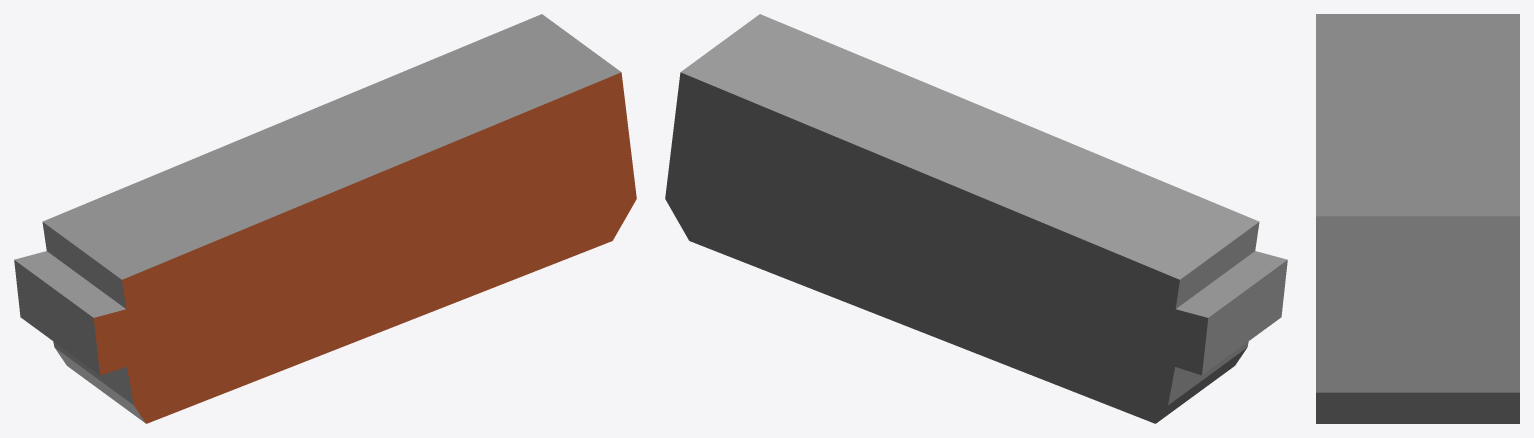
File: construction_4652_assumed_A_Casa_h6m.obj
The picture shows the model from 3 angles, left to right: view 1: azimuth 30°, elevation 25°; view 2: azimuth 150°, elevation 25°; view 3: azimuth 270°, elevation 25°; orthographic projection. The views are drawn at different scales.
Visible parts, largest first — view 1: construction_4652_assumed_A_Casa; view 2: construction_4652_assumed_A_Casa; view 3: construction_4652_assumed_A_Casa.
Boxes of the visible parts, x1,y1,x2,y2 form: construction_4652_assumed_A_Casa: (14,14,636,423); construction_4652_assumed_A_Casa: (665,14,1287,423); construction_4652_assumed_A_Casa: (1316,14,1519,423).
Bounding box in the file's own units: 23.65 × 9.81 × 6.
